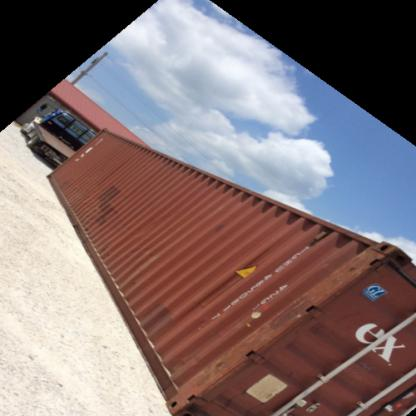Damage: (281, 258, 380, 319), (197, 326, 288, 376)
